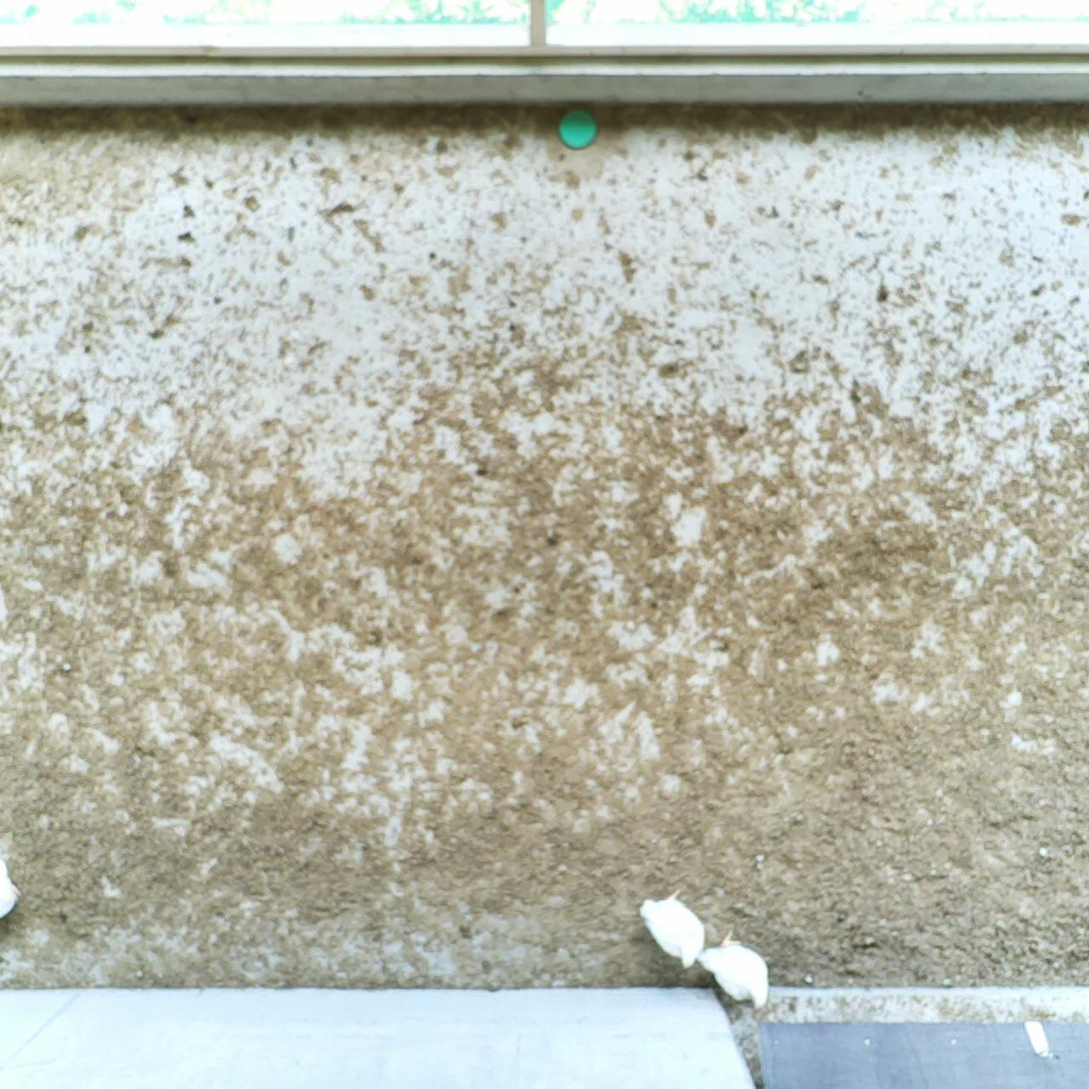chicken: (694, 931, 774, 1013), (640, 884, 706, 970), (0, 853, 23, 923)
